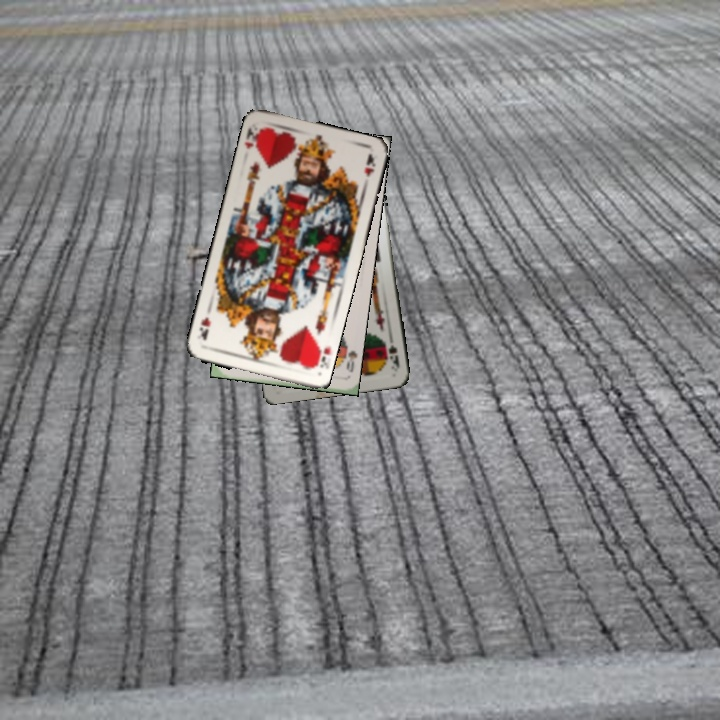HK: (308, 337, 330, 371), (241, 123, 265, 153)
SK: (381, 331, 402, 372)
SO: (337, 336, 358, 375)
